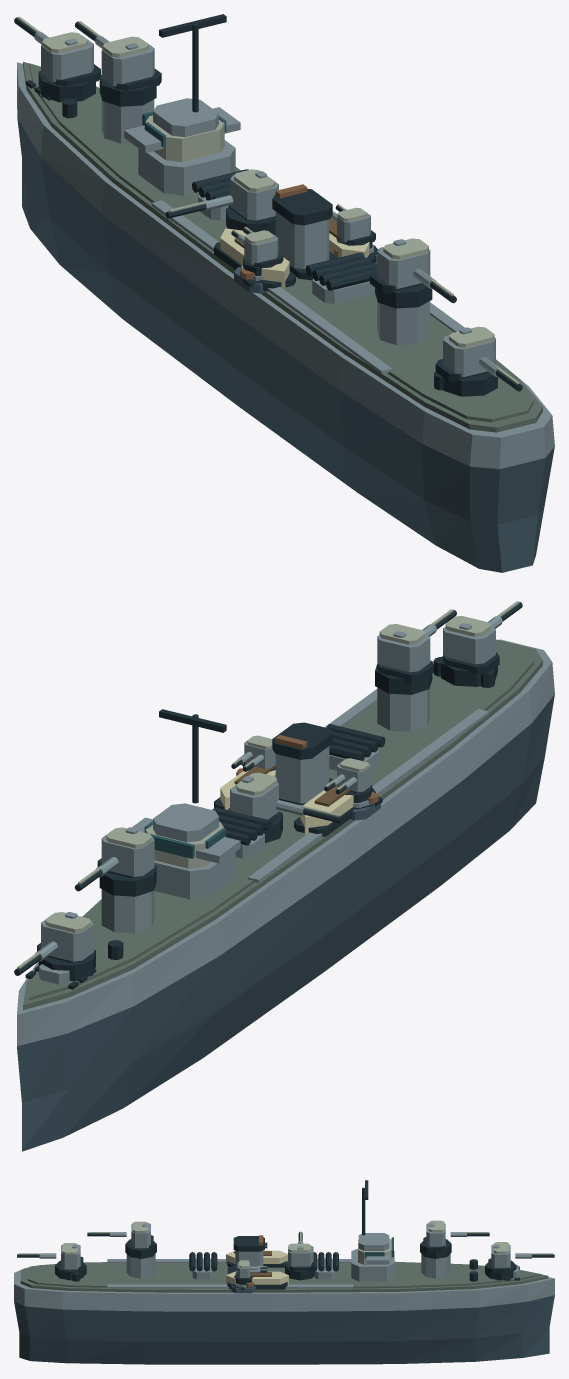
Rendered from historic-sims.glb.
3 renders of one model, top to bottom at view 1: azimuth 30°, elevation 25°; view 2: azimuth 150°, elevation 25°; view 3: azimuth 270°, elevation 25°, orthographic. The views are drawn at different scales.
Parts seen in each view (by area): view 1: historic-sims-historic-sims-geometry, historic-sims-part_bridge.129-geometry, historic-sims-historic_funnel_0.122-geometry, historic-sims-turret_main_1.091-geometry, historic-sims-turret_main_3.052-geometry, historic-sims-turret_main_0.098-geometry, historic-sims-turret_main_4.017-geometry, historic-sims-turret_main_2.077-geometry, historic-sims-torpedo_bank_0.038-geometry, historic-sims-turret_aa_aa-port.131-geometry, historic-sims-turret_aa_aa-starboard.127-geometry, historic-sims-torpedo_bank_1.035-geometry; view 2: historic-sims-historic-sims-geometry, historic-sims-part_bridge.129-geometry, historic-sims-historic_funnel_0.122-geometry, historic-sims-turret_main_3.052-geometry, historic-sims-turret_main_1.091-geometry, historic-sims-turret_main_4.017-geometry, historic-sims-turret_main_0.098-geometry, historic-sims-turret_main_2.077-geometry, historic-sims-torpedo_bank_0.038-geometry, historic-sims-torpedo_bank_1.035-geometry, historic-sims-turret_aa_aa-port.131-geometry, historic-sims-turret_aa_aa-starboard.127-geometry; view 3: historic-sims-historic-sims-geometry, historic-sims-part_bridge.129-geometry, historic-sims-turret_main_1.091-geometry, historic-sims-turret_main_3.052-geometry, historic-sims-turret_main_0.098-geometry, historic-sims-turret_main_4.017-geometry, historic-sims-turret_main_2.077-geometry, historic-sims-historic_funnel_0.122-geometry, historic-sims-torpedo_bank_0.038-geometry, historic-sims-torpedo_bank_1.035-geometry, historic-sims-turret_aa_aa-starboard.127-geometry.
Part boxes in pixels (box(x1,y1,x2,y2)): historic-sims-historic-sims-geometry: box(17, 61, 554, 572); historic-sims-part_bridge.129-geometry: box(124, 14, 240, 195); historic-sims-historic_funnel_0.122-geometry: box(272, 184, 335, 280); historic-sims-turret_main_1.091-geometry: box(74, 21, 161, 106); historic-sims-turret_main_3.052-geometry: box(370, 238, 456, 308); historic-sims-turret_main_0.098-geometry: box(14, 16, 100, 102); historic-sims-turret_main_4.017-geometry: box(435, 326, 522, 396); historic-sims-turret_main_2.077-geometry: box(165, 169, 278, 235); historic-sims-torpedo_bank_0.038-geometry: box(305, 252, 377, 303); historic-sims-turret_aa_aa-port.131-geometry: box(231, 227, 283, 275); historic-sims-turret_aa_aa-starboard.127-geometry: box(331, 204, 375, 248); historic-sims-torpedo_bank_1.035-geometry: box(192, 169, 248, 220); historic-sims-historic-sims-geometry: box(17, 639, 554, 1151); historic-sims-part_bridge.129-geometry: box(132, 709, 240, 899); historic-sims-historic_funnel_0.122-geometry: box(272, 722, 332, 805); historic-sims-turret_main_3.052-geometry: box(375, 609, 456, 694); historic-sims-turret_main_1.091-geometry: box(74, 827, 156, 896); historic-sims-turret_main_4.017-geometry: box(441, 601, 522, 686); historic-sims-turret_main_0.098-geometry: box(14, 912, 95, 981); historic-sims-turret_main_2.077-geometry: box(229, 772, 343, 843); historic-sims-torpedo_bank_0.038-geometry: box(326, 724, 385, 770); historic-sims-torpedo_bank_1.035-geometry: box(213, 807, 271, 858); historic-sims-turret_aa_aa-port.131-geometry: box(324, 758, 372, 802); historic-sims-turret_aa_aa-starboard.127-geometry: box(231, 735, 275, 771); historic-sims-historic-sims-geometry: box(14, 1250, 554, 1364); historic-sims-part_bridge.129-geometry: box(351, 1180, 394, 1281); historic-sims-turret_main_1.091-geometry: box(420, 1220, 489, 1258); historic-sims-turret_main_3.052-geometry: box(87, 1221, 156, 1258); historic-sims-turret_main_0.098-geometry: box(485, 1242, 554, 1280); historic-sims-turret_main_4.017-geometry: box(17, 1243, 86, 1280); historic-sims-turret_main_2.077-geometry: box(285, 1231, 314, 1280); historic-sims-historic_funnel_0.122-geometry: box(227, 1235, 264, 1274); historic-sims-torpedo_bank_0.038-geometry: box(189, 1252, 217, 1279); historic-sims-torpedo_bank_1.035-geometry: box(311, 1252, 338, 1279); historic-sims-turret_aa_aa-starboard.127-geometry: box(234, 1260, 267, 1284).
Bounding box in the file's own units: 0.721 × 1.39 × 4.11.
